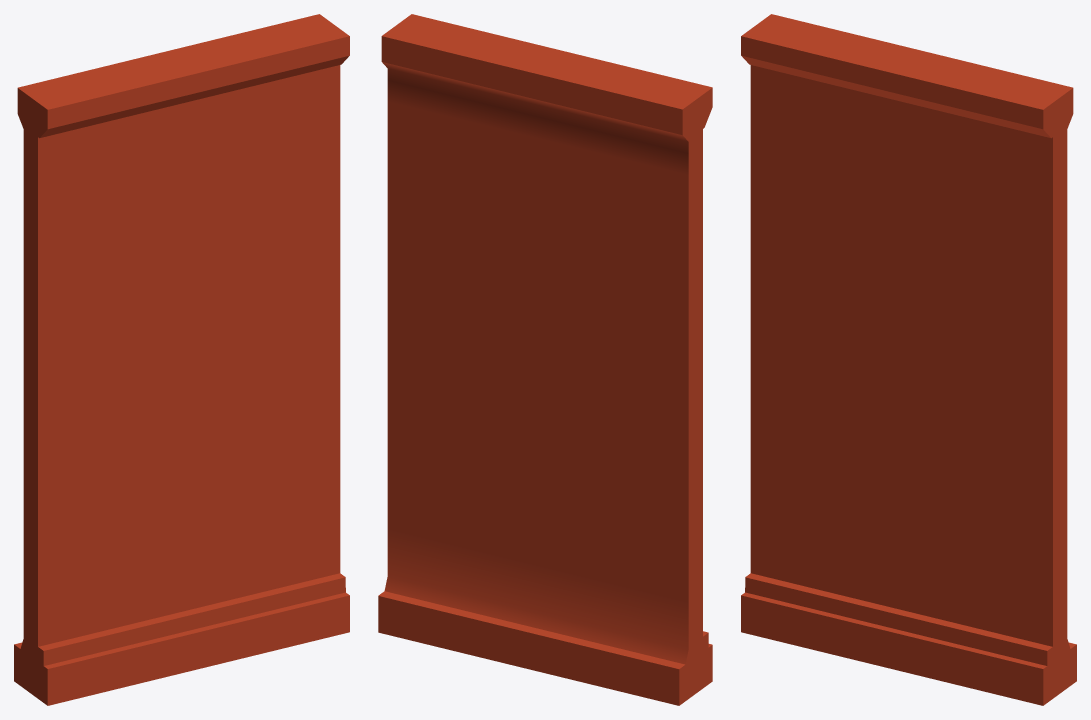
Rendered from TallWall.FBX.
The picture shows the model from 3 angles, left to right: view 1: azimuth 30°, elevation 25°; view 2: azimuth 150°, elevation 25°; view 3: azimuth 330°, elevation 25°; orthographic projection.
Visible parts, largest first — view 1: TallWall; view 2: TallWall; view 3: TallWall.
Part boxes in pixels (x1,y1,x2,y2): TallWall: [14, 14, 349, 705]; TallWall: [378, 14, 712, 705]; TallWall: [741, 14, 1076, 705].
Bounding box in the file's own units: 118 × 223 × 22.83.
